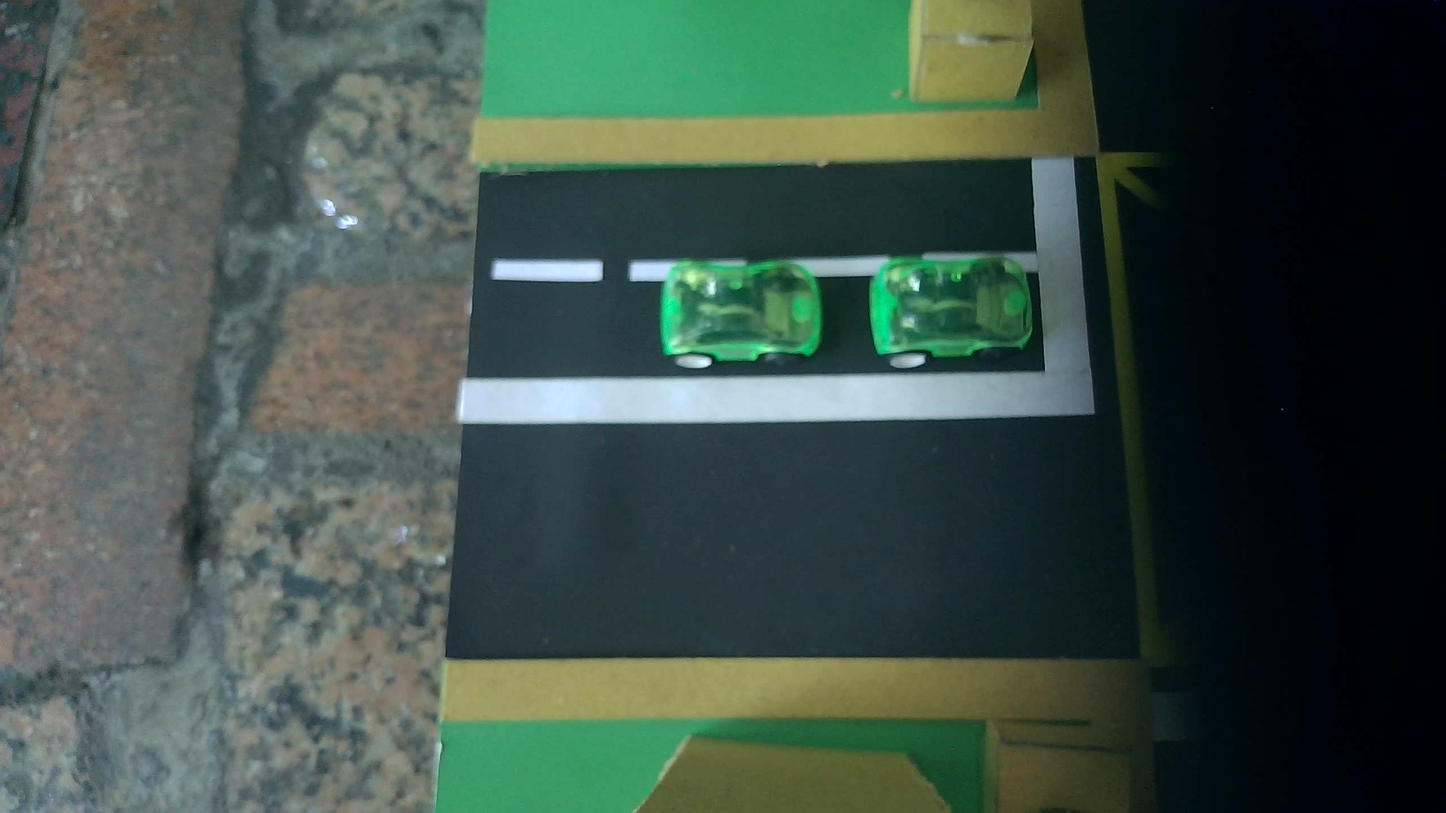Mobil hijau: (870, 256, 1033, 368), (660, 260, 822, 368)
